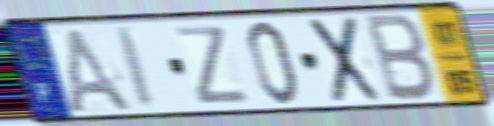0: (244, 17, 301, 107)
A: (63, 24, 138, 114)
B: (363, 12, 438, 104)
I: (112, 24, 159, 111)
X: (307, 14, 384, 107)
Z: (172, 23, 254, 107)
